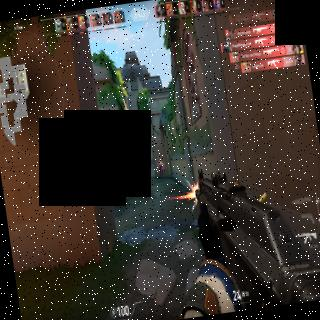ENEMY-BODY: (157, 158, 163, 178)
ENEMY-HEAD: (158, 160, 160, 162)
